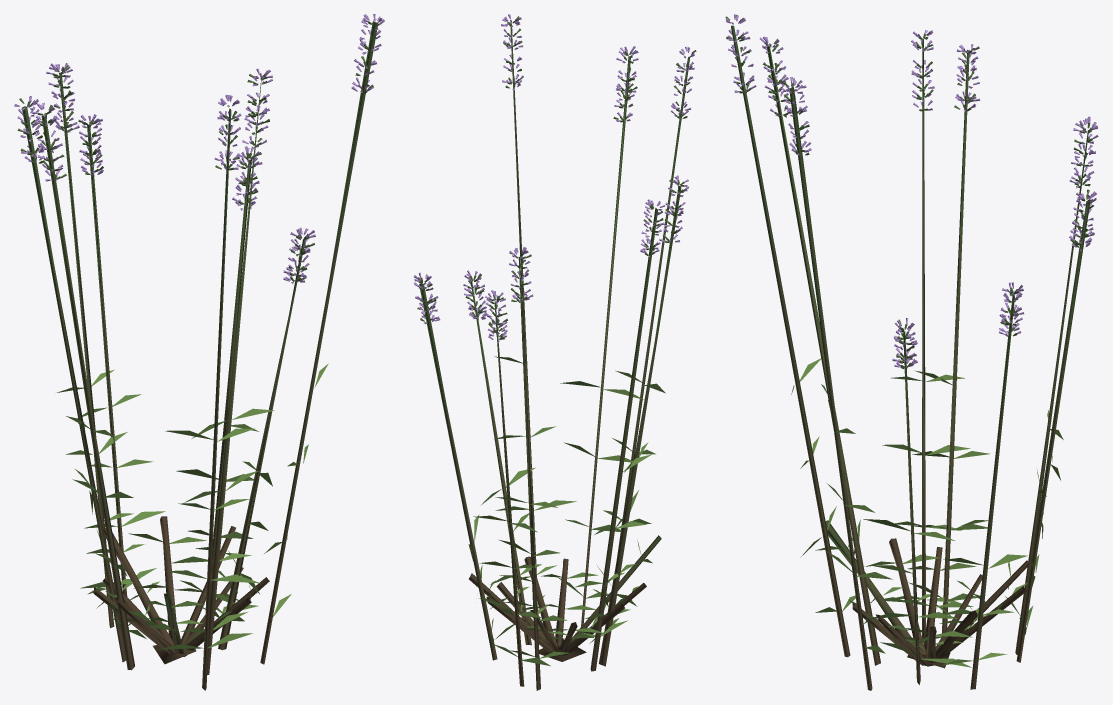
The model's file is Lavender_lod2.glb.
The picture shows the model from 3 angles, left to right: view 1: azimuth 30°, elevation 25°; view 2: azimuth 150°, elevation 25°; view 3: azimuth 270°, elevation 25°; orthographic projection. The views are drawn at different scales.
Visible parts, largest first — view 1: Plant_LOD2; view 2: Plant_LOD2; view 3: Plant_LOD2.
Boxes of the visible parts, x1,y1,x2,y2 form: Plant_LOD2: (14, 14, 384, 690); Plant_LOD2: (413, 14, 696, 690); Plant_LOD2: (725, 14, 1098, 690).
Bounding box in the file's own units: 0.301 × 0.6728 × 0.3542.
